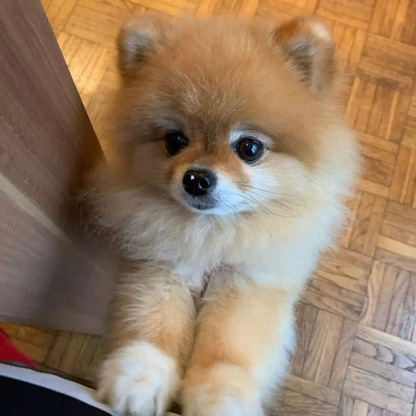Pomeranian: (92, 13, 371, 399)
